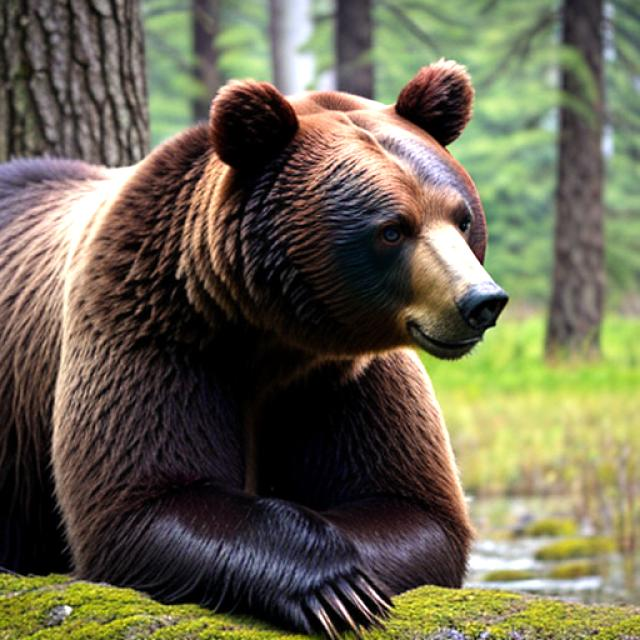bear: (24, 60, 522, 621)
